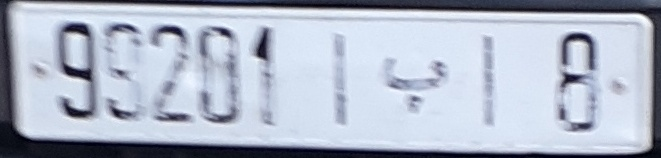0: (196, 22, 242, 125)
1: (253, 23, 284, 125)
2: (148, 22, 190, 125)
8: (553, 30, 605, 132)
9: (53, 21, 100, 122), (101, 20, 144, 125)
b: (371, 44, 454, 114)
